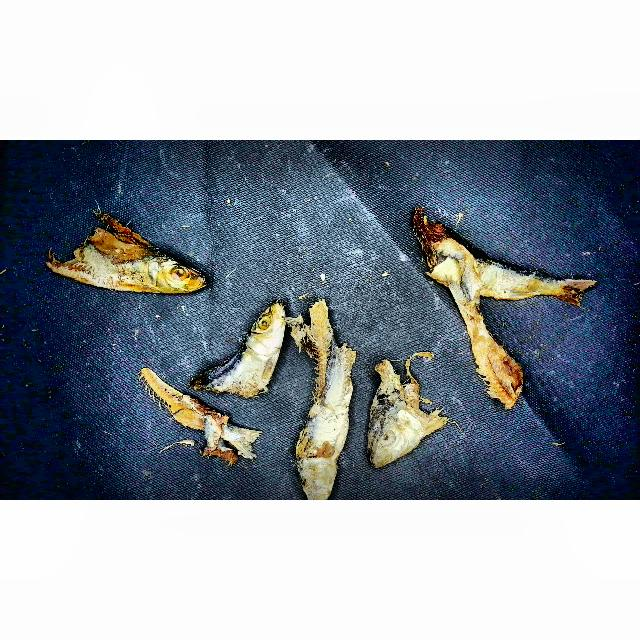Rejected_Body: (289, 301, 359, 456), (419, 220, 545, 300), (45, 215, 149, 301), (463, 325, 529, 414), (138, 368, 212, 443)
Rejected_Head: (195, 296, 292, 404), (366, 350, 447, 473), (129, 244, 214, 299), (286, 450, 349, 500)
Rejected_Tail: (210, 420, 271, 464), (539, 271, 601, 313), (445, 272, 482, 315)
